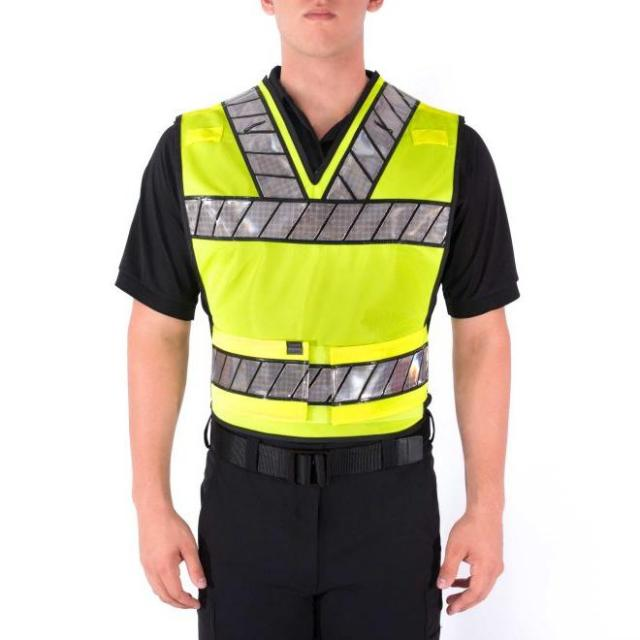Reflective-Jacket: (174, 67, 477, 436)
